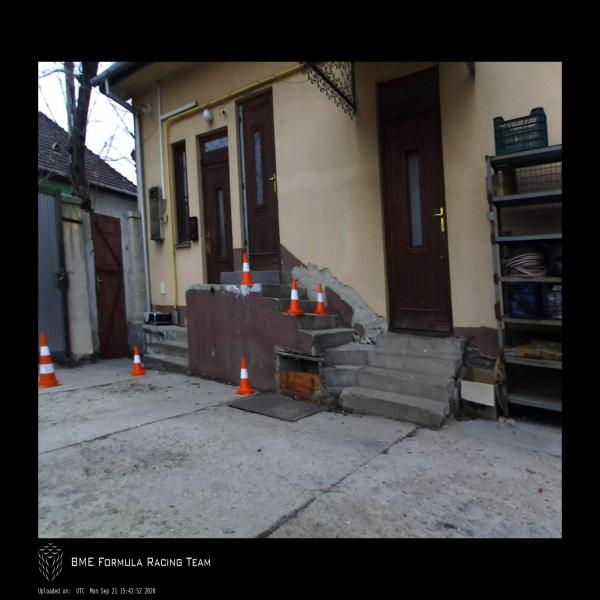large_orange_cone: (38, 334, 62, 388)
orange_cone: (236, 358, 254, 395), (285, 280, 303, 314), (239, 253, 255, 283), (314, 284, 329, 314), (131, 347, 145, 375)
